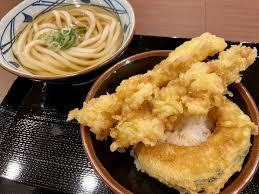pumpkin: (147, 110, 257, 186)
